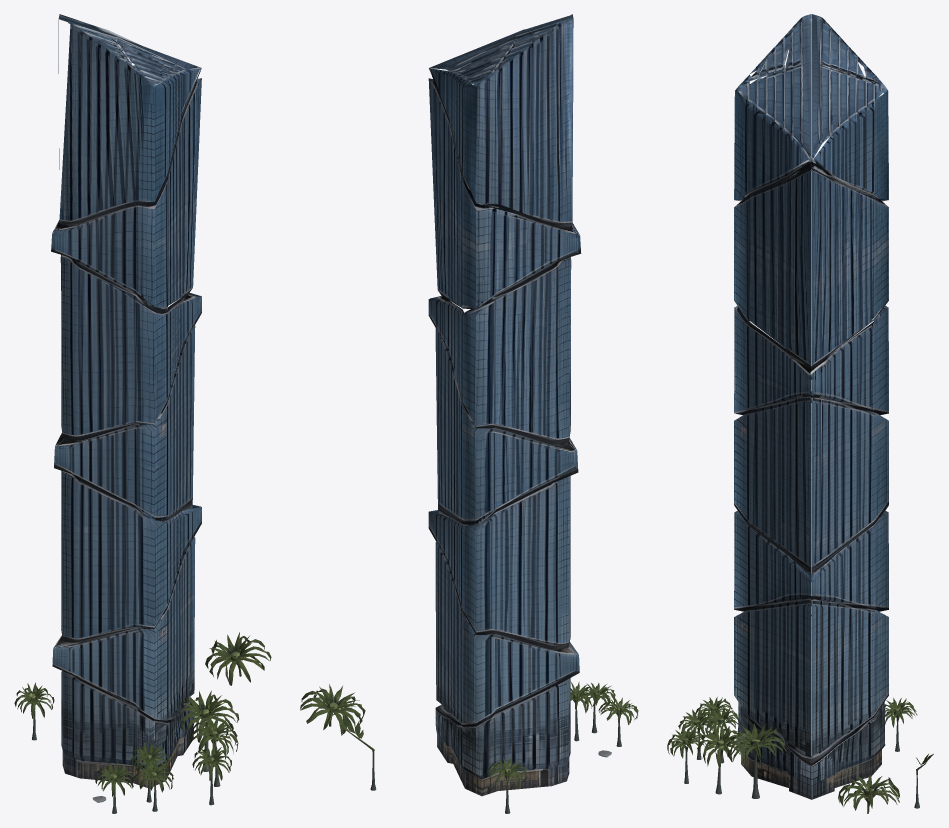
File: carshow-twisting.glb
3 views of the same model, side by side, from view 1: azimuth 30°, elevation 25°; view 2: azimuth 150°, elevation 25°; view 3: azimuth 270°, elevation 25° (orthographic). The views are drawn at different scales.
Parts seen in each view (by area): view 1: tripo_39036dfd_76ec_45a0_8520_d9151de3d075; view 2: tripo_39036dfd_76ec_45a0_8520_d9151de3d075; view 3: tripo_39036dfd_76ec_45a0_8520_d9151de3d075.
Boxes of the visible parts, left/top/right/bottom form: tripo_39036dfd_76ec_45a0_8520_d9151de3d075: left=14, top=14, right=271, bottom=813; tripo_39036dfd_76ec_45a0_8520_d9151de3d075: left=300, top=14, right=638, bottom=813; tripo_39036dfd_76ec_45a0_8520_d9151de3d075: left=667, top=14, right=933, bottom=813.
Size of the model in its own units: 0.3423 by 0.9995 by 0.3325.
Materials: 1 (1 with a texture image).
